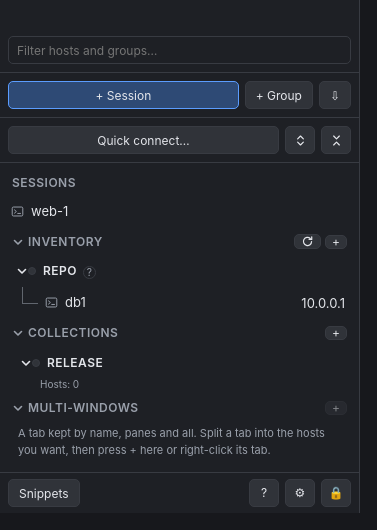
Test: does not say nothing matches while an inventory host does
Step 1. Type "db1" into the field with placeholder "Filter hosts and groups…" → [180, 50], box [8,36,351,64]
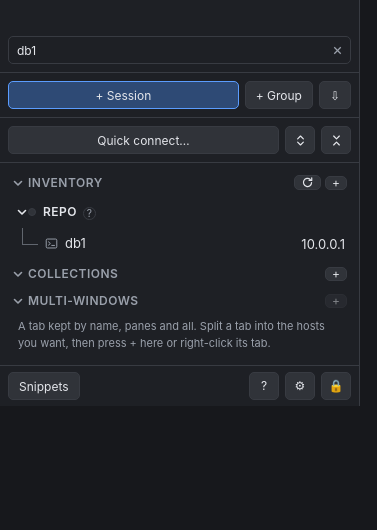
Expected: the text "db1" is shown, [44,234,86,254]
Expected: the text "Nothing matches" is not shown
Step 2. Replace the text in the field with placeholder "Filter hosts and groups…" with "zzz" → [180, 50], box [8,36,351,64]
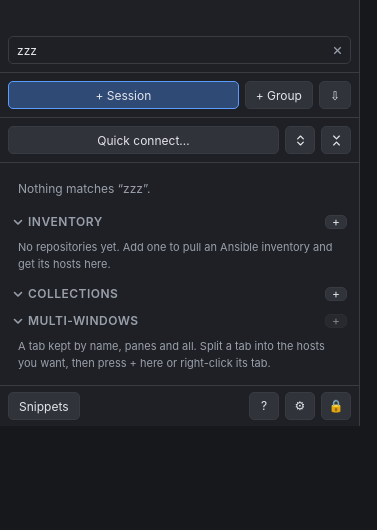
Now the text "Nothing matches “zzz”." is shown, box [18,181,150,196]
